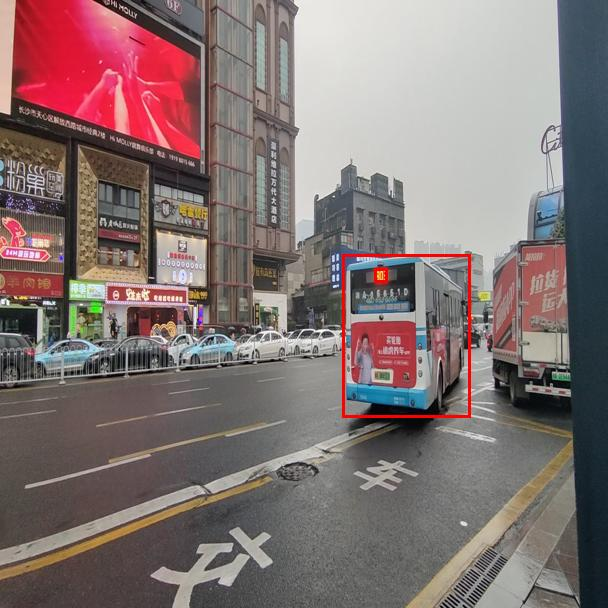bus: (342, 254, 470, 417)
screen: (374, 268, 387, 282)
